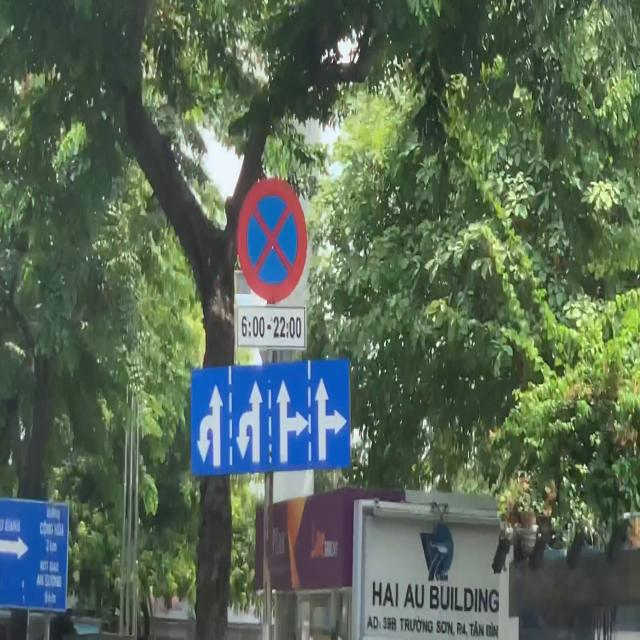Cam dung va do: (237, 178, 307, 304)
